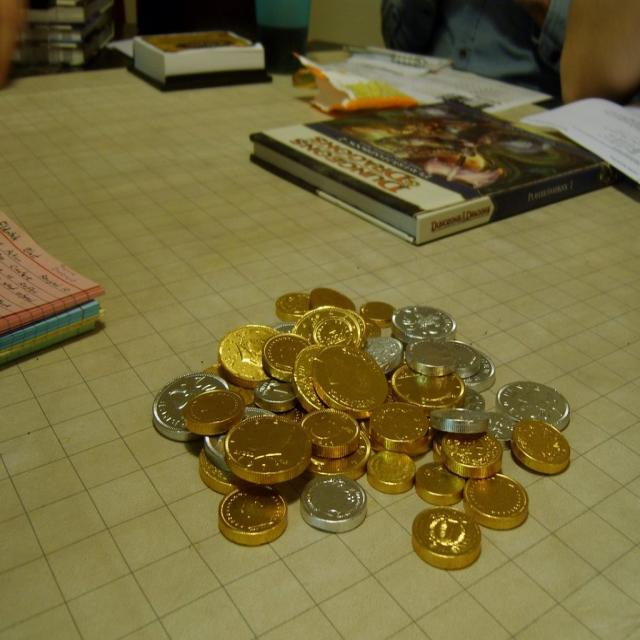Coin: (224, 409, 312, 482), (314, 339, 388, 420), (151, 373, 229, 445), (410, 501, 481, 572), (217, 480, 289, 547), (204, 403, 270, 471), (298, 471, 368, 535), (462, 472, 531, 535), (389, 360, 463, 416), (497, 379, 572, 432), (218, 323, 276, 388), (511, 418, 572, 476), (307, 424, 367, 481), (302, 406, 361, 462), (290, 300, 362, 344), (390, 300, 458, 345), (368, 401, 425, 454), (184, 387, 243, 436), (441, 431, 502, 478), (366, 445, 414, 496), (415, 459, 467, 506), (263, 332, 310, 380), (290, 342, 323, 409), (196, 450, 241, 499), (201, 366, 254, 405), (356, 328, 402, 371), (404, 341, 458, 377), (456, 351, 497, 394), (428, 405, 486, 435), (252, 377, 297, 415), (449, 335, 480, 384), (368, 435, 432, 457), (309, 317, 355, 347), (276, 289, 313, 323), (488, 407, 517, 450), (312, 285, 358, 312), (356, 299, 399, 327), (460, 386, 486, 413), (278, 399, 309, 421), (429, 434, 441, 464), (274, 320, 290, 335)
